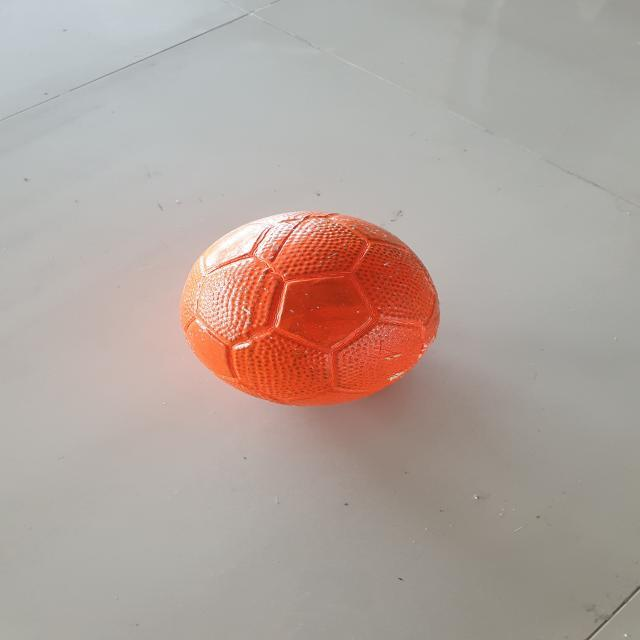bola: (179, 200, 445, 418)
